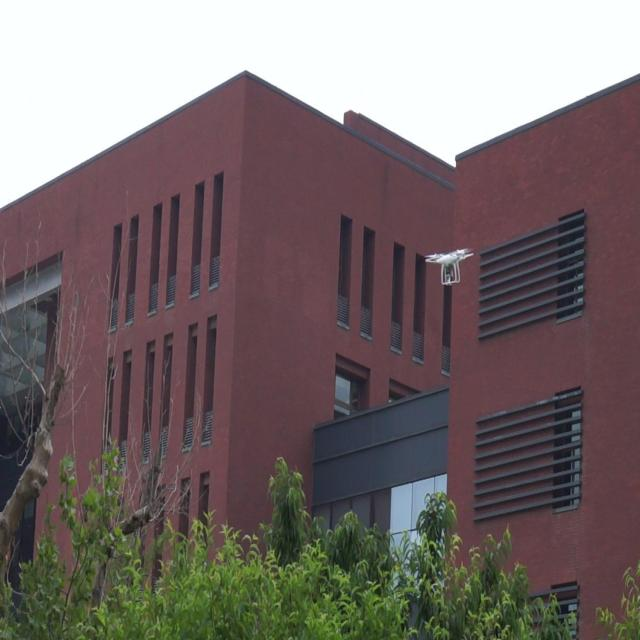drone: (424, 246, 472, 288)
